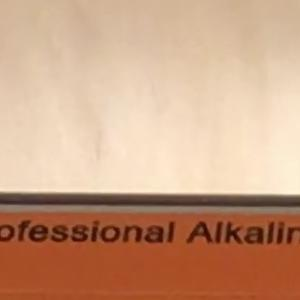ALK: (176, 211, 244, 254)
